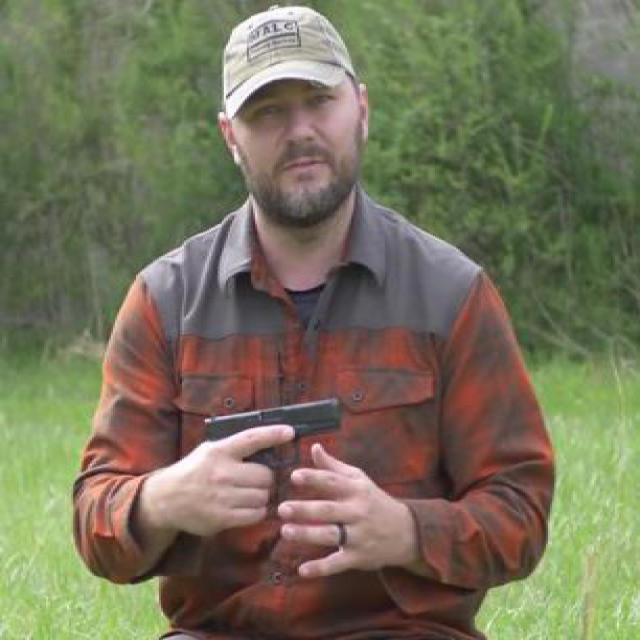weapon: (200, 394, 344, 480)
